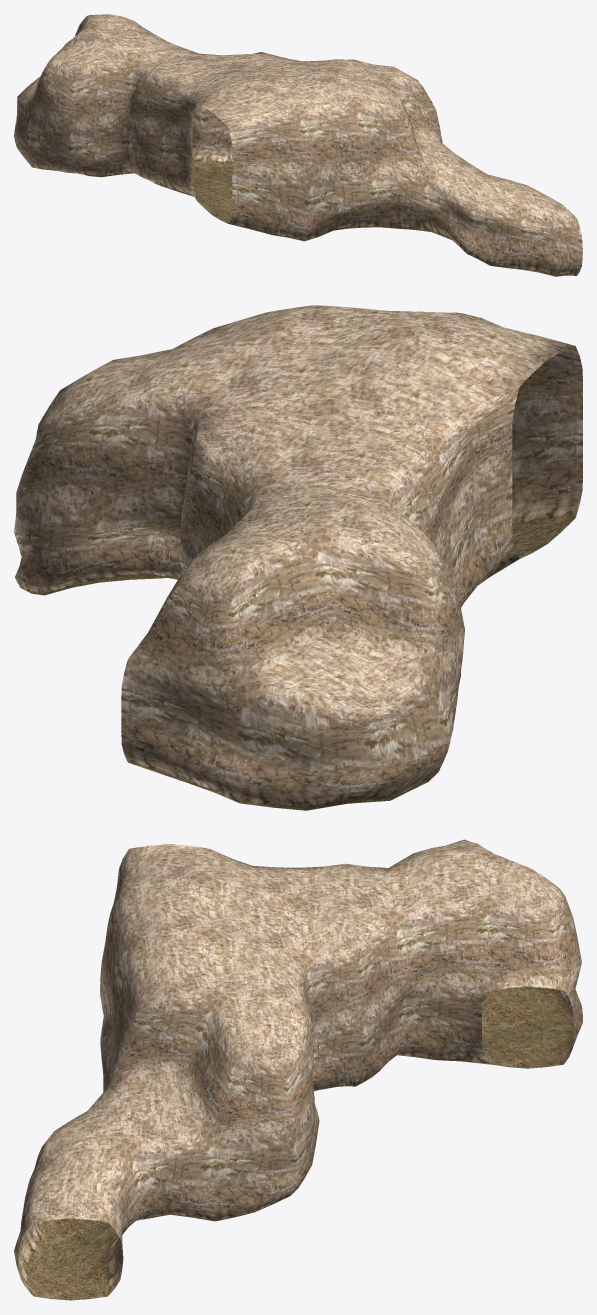
Rendered from thm_all_cave_s03_mirror_r2_mesh_r2.fbx.
The picture shows the model from 3 angles, top to bottom: view 1: azimuth 30°, elevation 25°; view 2: azimuth 150°, elevation 25°; view 3: azimuth 270°, elevation 25°; orthographic projection. The views are drawn at different scales.
Parts seen in each view (by area): view 1: mesh_node; view 2: mesh_node; view 3: mesh_node.
Part boxes in pixels (x1,y1,x2,y2): mesh_node: (14,14,582,276); mesh_node: (14,305,582,810); mesh_node: (14,839,582,1300).
Bounding box in the file's own units: 48.79 × 26.36 × 49.81.
